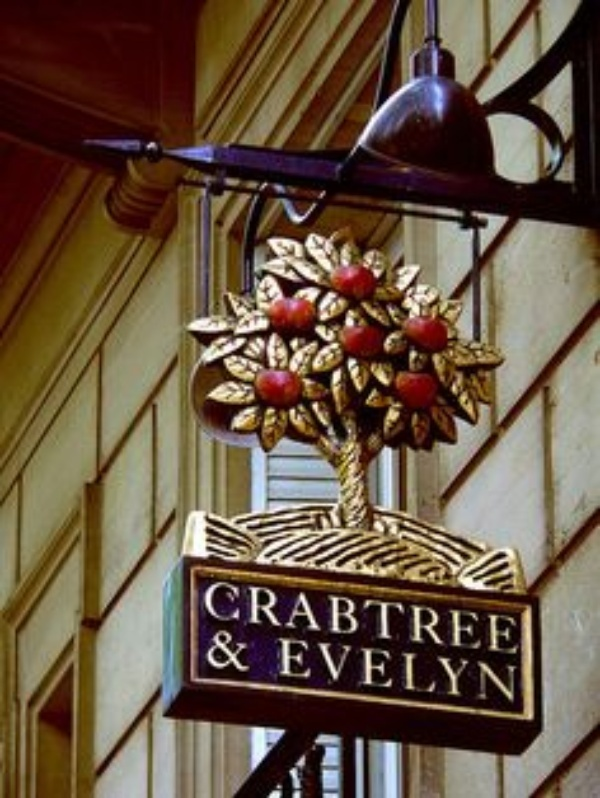text: (209, 577, 224, 656), (225, 577, 240, 656), (241, 577, 256, 656), (257, 577, 272, 656), (273, 577, 288, 656), (289, 577, 304, 656), (305, 577, 320, 656), (321, 577, 336, 656), (337, 577, 352, 656), (353, 577, 368, 656), (369, 577, 384, 656), (385, 577, 400, 656), (401, 577, 416, 656), (417, 577, 432, 656), (433, 577, 448, 656), (449, 577, 464, 656), (465, 577, 480, 656), (481, 577, 496, 656), (497, 577, 512, 656), (273, 633, 288, 702), (289, 633, 304, 702), (305, 633, 320, 702), (321, 633, 336, 702), (337, 633, 352, 702), (353, 633, 368, 702), (369, 633, 384, 702), (385, 633, 400, 702), (401, 633, 416, 702), (417, 633, 432, 702), (433, 633, 448, 702), (449, 633, 464, 702), (465, 633, 480, 702), (481, 633, 496, 702), (497, 633, 512, 702), (513, 577, 522, 656), (209, 626, 224, 669), (225, 626, 240, 669), (241, 626, 250, 669), (513, 633, 517, 702), (206, 577, 208, 656), (206, 626, 208, 669)
